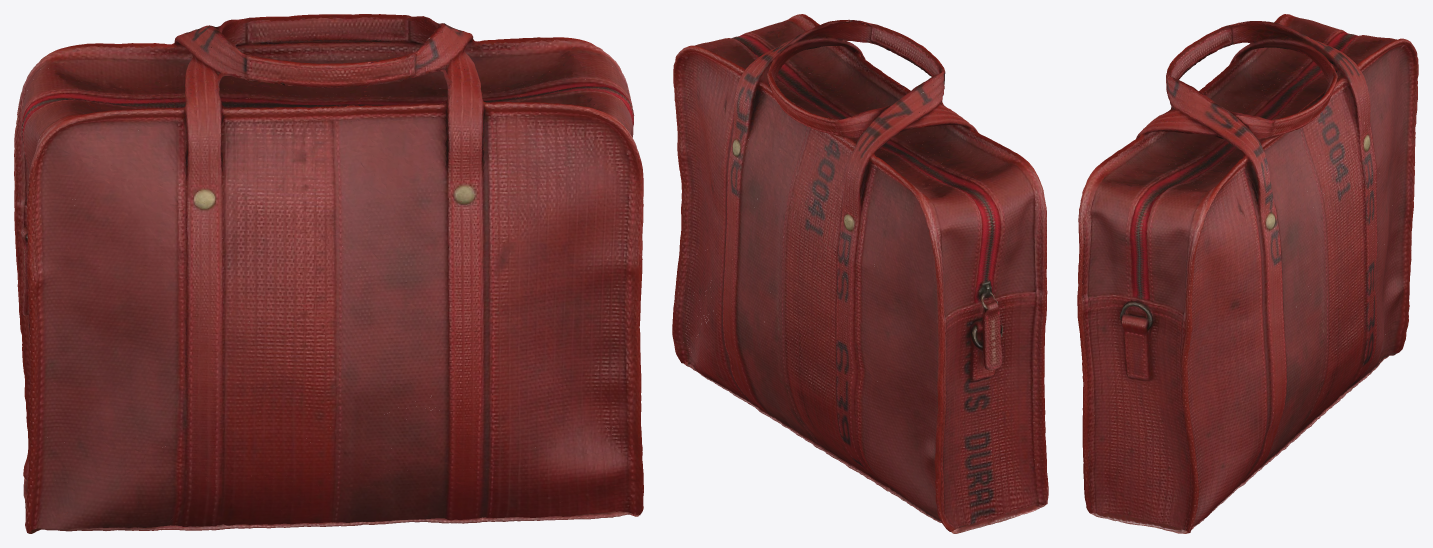
3 renders of one model, left to right at view 1: azimuth 30°, elevation 25°; view 2: azimuth 150°, elevation 25°; view 3: azimuth 270°, elevation 25°, orthographic. The views are drawn at different scales.
Parts seen in each view (by area): view 1: Object_3, Object_2, Object_4, Object_6; view 2: Object_2, Object_3, Object_4, Object_6; view 3: Object_2, Object_3, Object_4, Object_6.
Part boxes in pixels (left/top/right/bottom): Object_3: left=14, top=14, right=641, bottom=526; Object_2: left=17, top=29, right=643, bottom=532; Object_4: left=14, top=14, right=643, bottom=528; Object_6: left=23, top=469, right=638, bottom=533; Object_2: left=673, top=42, right=1048, bottom=531; Object_3: left=672, top=16, right=1047, bottom=528; Object_4: left=672, top=14, right=1048, bottom=525; Object_6: left=683, top=362, right=1045, bottom=533; Object_2: left=1078, top=14, right=1417, bottom=533; Object_3: left=1077, top=15, right=1418, bottom=518; Object_4: left=1077, top=14, right=1418, bottom=532; Object_6: left=1090, top=332, right=1395, bottom=533.
Size of the model in its own units: 8.68 by 7.44 by 6.05.
2 materials, 2 textured.
